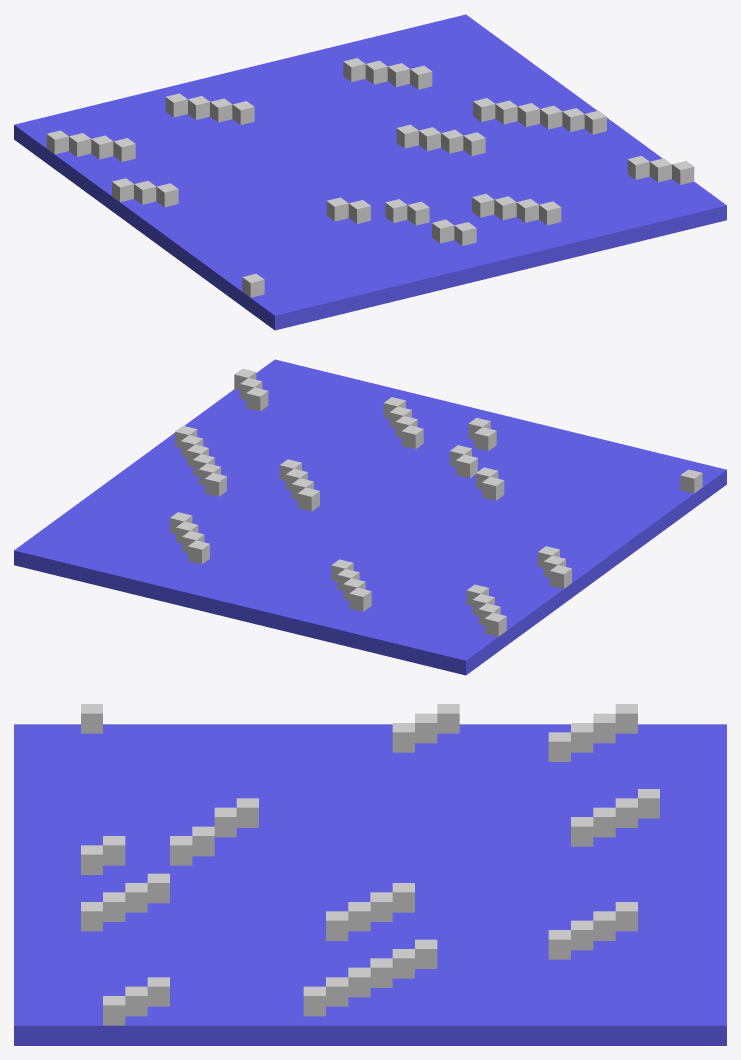
Rendered from water3.obj.
The picture shows the model from 3 angles, top to bottom: view 1: azimuth 30°, elevation 25°; view 2: azimuth 150°, elevation 25°; view 3: azimuth 270°, elevation 25°; orthographic projection. The views are drawn at different scales.
Size of the model in its own units: 32 by 2 by 32.
1 material, 1 textured.
